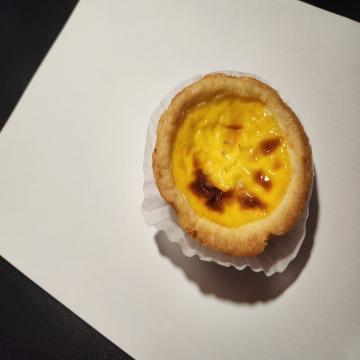EggTart: (153, 70, 314, 258)
